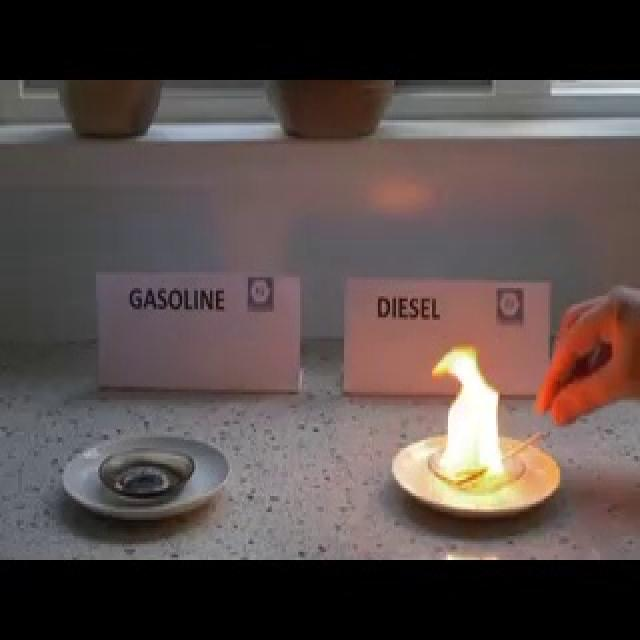fire: (424, 341, 517, 488)
